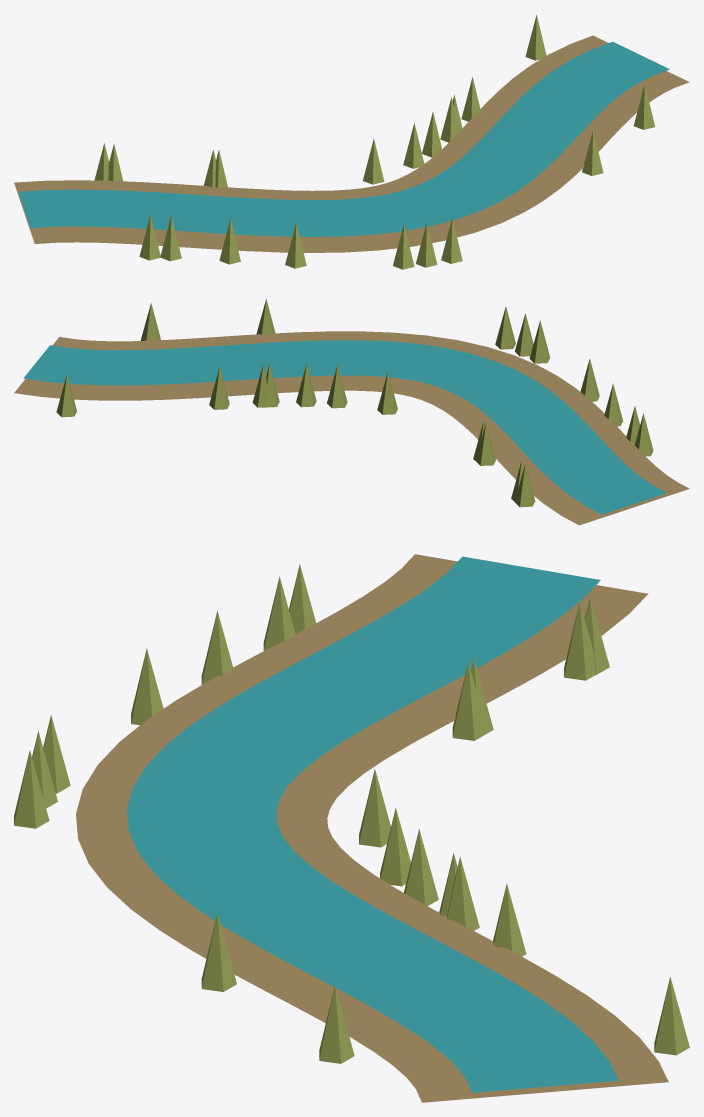
File: FEATURE_FLOODPLAINS_v02.fbx
The picture shows the model from 3 angles, top to bottom: view 1: azimuth 30°, elevation 25°; view 2: azimuth 150°, elevation 25°; view 3: azimuth 270°, elevation 25°; orthographic projection. The views are drawn at different scales.
Visible parts, largest first — view 1: River_channel.002, Alluvial_banks.002, Riparian_grass.043, Riparian_grass.046, Riparian_grass.049, Riparian_grass.041, Riparian_grass.050, Riparian_grass.054, Riparian_grass.047, Riparian_grass.048, Riparian_grass.059, Riparian_grass.040 (+5 smaller); view 2: River_channel.002, Alluvial_banks.002, Riparian_grass.041, Riparian_grass.051, Riparian_grass.049, Riparian_grass.045, Riparian_grass.043, Riparian_grass.052, Riparian_grass.042, Riparian_grass.056, Riparian_grass.054, Riparian_grass.055 (+7 smaller); view 3: River_channel.002, Alluvial_banks.002, Riparian_grass.044, Riparian_grass.045, Riparian_grass.046, Riparian_grass.047, Riparian_grass.049, Riparian_grass.053, Riparian_grass.043, Riparian_grass.042, Riparian_grass.056, Riparian_grass.050 (+8 smaller).
Part boxes in pixels (x1,y1,x2,y2): River_channel.002: (18,41,669,236); Alluvial_banks.002: (14,35,689,252); Riparian_grass.043: (362,139,384,184); Riparian_grass.046: (633,84,655,129); Riparian_grass.049: (441,218,462,263); Riparian_grass.041: (393,224,414,269); Riparian_grass.050: (285,223,306,268); Riparian_grass.054: (416,222,437,267); Riparian_grass.047: (582,130,603,175); Riparian_grass.048: (139,215,160,260); Riparian_grass.059: (160,215,181,261); Riparian_grass.040: (219,218,240,264); River_channel.002: (23,340,666,514); Alluvial_banks.002: (14,331,689,525); Riparian_grass.041: (529,320,550,363); Riparian_grass.051: (209,366,229,409); Riparian_grass.049: (495,306,515,349); Riparian_grass.045: (56,373,76,417); Riparian_grass.043: (377,372,397,414); Riparian_grass.052: (514,464,535,507); Riparian_grass.042: (327,365,347,408); Riparian_grass.056: (296,364,316,407); Riparian_grass.054: (515,313,533,356); Riparian_grass.055: (478,422,495,465); River_channel.002: (127,556,618,1092); Alluvial_banks.002: (76,554,668,1102); Riparian_grass.044: (452,662,487,740); Riparian_grass.045: (654,977,689,1055); Riparian_grass.046: (319,985,354,1063); Riparian_grass.047: (201,913,236,991); Riparian_grass.049: (14,750,49,828); Riparian_grass.053: (564,602,595,680); Riparian_grass.043: (359,769,390,847); Riparian_grass.042: (380,807,410,886); Riparian_grass.056: (404,829,438,906); Riparian_grass.050: (131,648,163,725).
Size of the model in its own units: 165 by 10 by 85.95.
